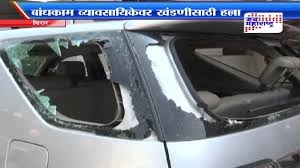Broken-glass: (168, 33, 300, 124), (12, 37, 139, 130)
